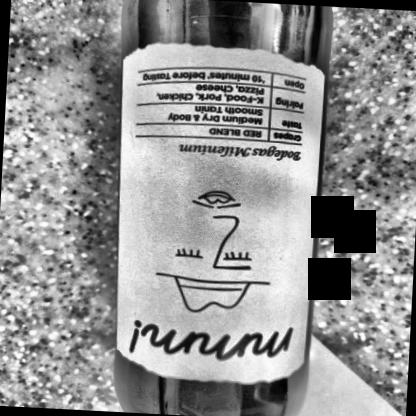umm: (112, 40, 326, 387)
